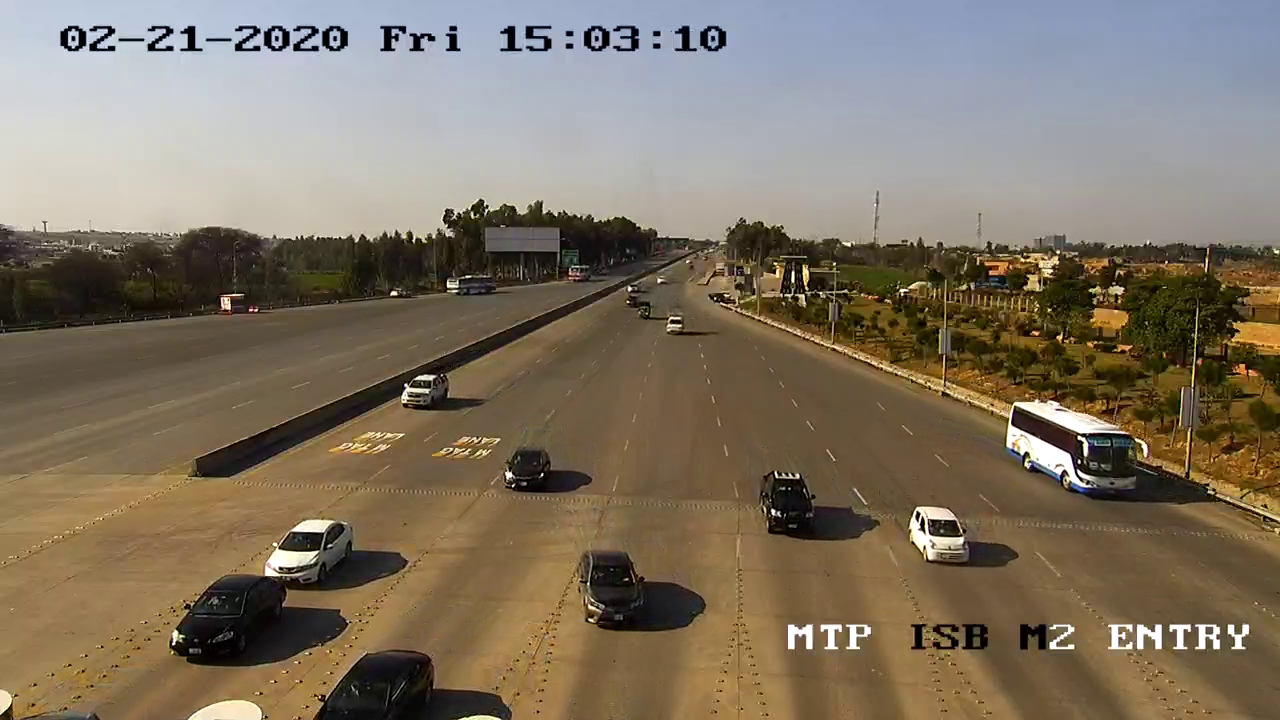f1: (160, 564, 291, 672), (252, 506, 359, 594), (569, 540, 657, 635), (746, 463, 834, 540), (900, 498, 982, 569), (495, 441, 562, 497)
f4: (999, 389, 1160, 503)
